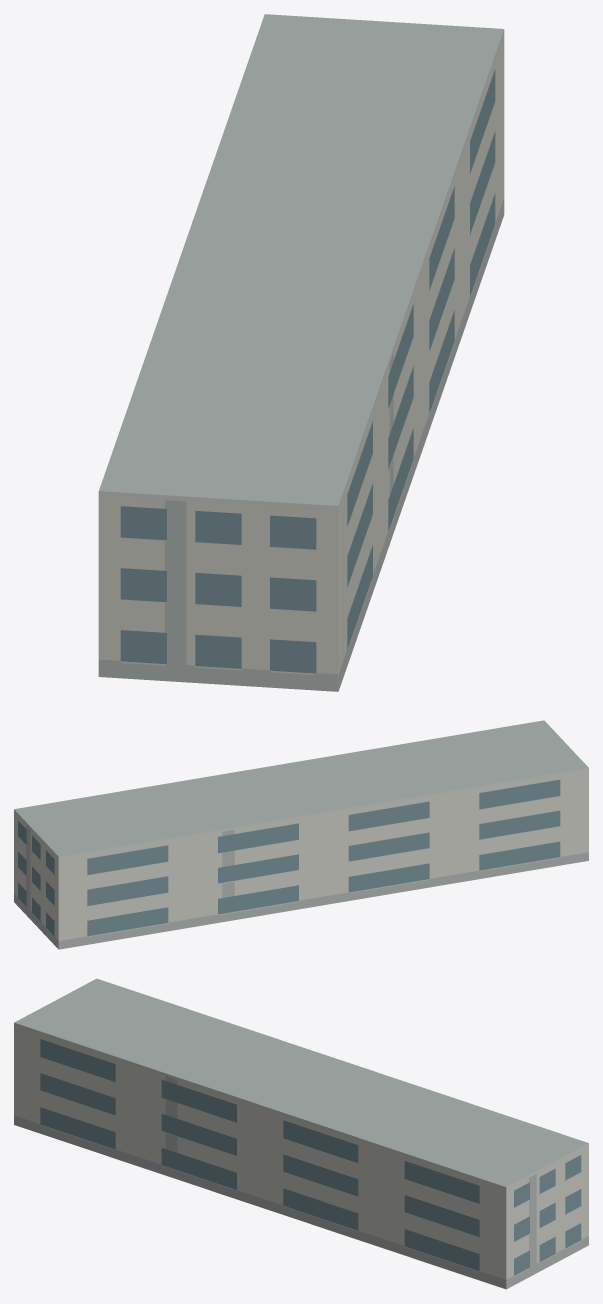
Rendered from residential-3351a847-f87e-40f5-8f58-75f43243ccbc.glb.
3 renders of one model, top to bottom at view 1: azimuth 30°, elevation 25°; view 2: azimuth 150°, elevation 25°; view 3: azimuth 270°, elevation 25°, orthographic. The views are drawn at different scales.
Visible parts, largest first — view 1: residential-3351a847-f87e-40f5-8f58-75f43243ccbc.tmp; view 2: residential-3351a847-f87e-40f5-8f58-75f43243ccbc.tmp; view 3: residential-3351a847-f87e-40f5-8f58-75f43243ccbc.tmp.
Part boxes in pixels (x1,y1,x2,y2): residential-3351a847-f87e-40f5-8f58-75f43243ccbc.tmp: (98,14,504,691); residential-3351a847-f87e-40f5-8f58-75f43243ccbc.tmp: (14,720,588,949); residential-3351a847-f87e-40f5-8f58-75f43243ccbc.tmp: (14,978,588,1289).
Size of the model in its own units: 40.08 by 9.15 by 46.64.
